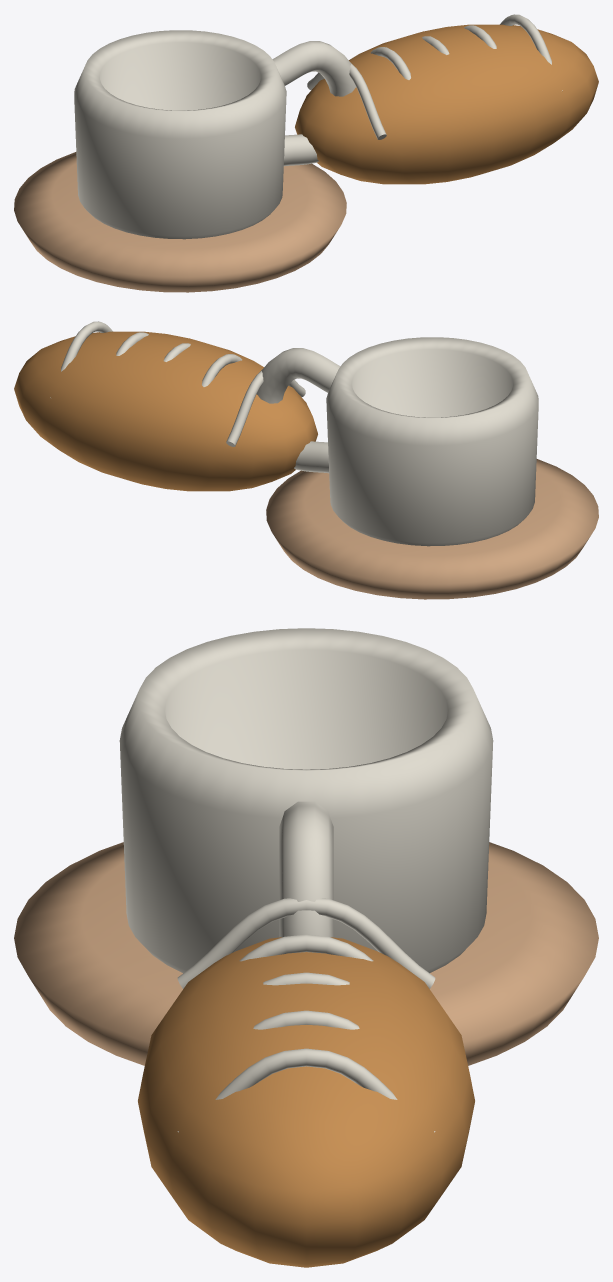
File: campaign_cafe.glb
3 renders of one model, top to bottom at view 1: azimuth 30°, elevation 25°; view 2: azimuth 150°, elevation 25°; view 3: azimuth 270°, elevation 25°, orthographic. The views are drawn at different scales.
Visible parts, largest first — view 1: campaign_cafe_V17_lacquer_chalk, campaign_cafe_Laminated_pastry, campaign_cafe_V17_ceramic_clay; view 2: campaign_cafe_V17_lacquer_chalk, campaign_cafe_Laminated_pastry, campaign_cafe_V17_ceramic_clay; view 3: campaign_cafe_V17_lacquer_chalk, campaign_cafe_Laminated_pastry, campaign_cafe_V17_ceramic_clay.
Boxes of the visible parts, x1,y1,x2,y2 form: campaign_cafe_V17_lacquer_chalk: (74,14,562,239); campaign_cafe_Laminated_pastry: (295,24,598,184); campaign_cafe_V17_ceramic_clay: (14,152,346,292); campaign_cafe_V17_lacquer_chalk: (50,321,538,546); campaign_cafe_Laminated_pastry: (14,331,317,491); campaign_cafe_V17_ceramic_clay: (266,459,598,599); campaign_cafe_V17_lacquer_chalk: (119,628,493,1132); campaign_cafe_Laminated_pastry: (138,937,474,1267); campaign_cafe_V17_ceramic_clay: (14,842,598,1065).
Bounding box in the file's own units: 0.5 × 0.14 × 0.26.
